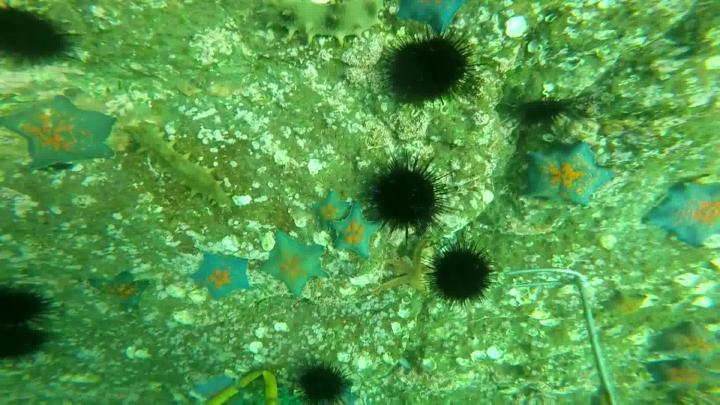echinus: (385, 30, 479, 116), (369, 154, 460, 240), (1, 6, 73, 66), (431, 247, 497, 308), (1, 286, 55, 329), (521, 100, 580, 136), (301, 362, 348, 405), (6, 316, 50, 359)
holothurian: (127, 124, 238, 213), (249, 1, 385, 44)
scallop: (172, 309, 200, 327), (164, 285, 188, 302), (674, 274, 701, 287), (262, 230, 277, 253), (487, 346, 506, 364), (691, 298, 717, 311), (420, 357, 438, 372), (600, 234, 616, 249), (470, 352, 490, 362), (231, 197, 256, 205), (248, 344, 263, 355)
starfish: (6, 99, 118, 166), (515, 142, 617, 205), (648, 180, 720, 249), (258, 235, 332, 291), (190, 254, 254, 299), (324, 209, 385, 255), (664, 322, 720, 369), (659, 366, 720, 400), (395, 1, 471, 28), (194, 374, 242, 405), (313, 195, 356, 225), (612, 287, 646, 315)
